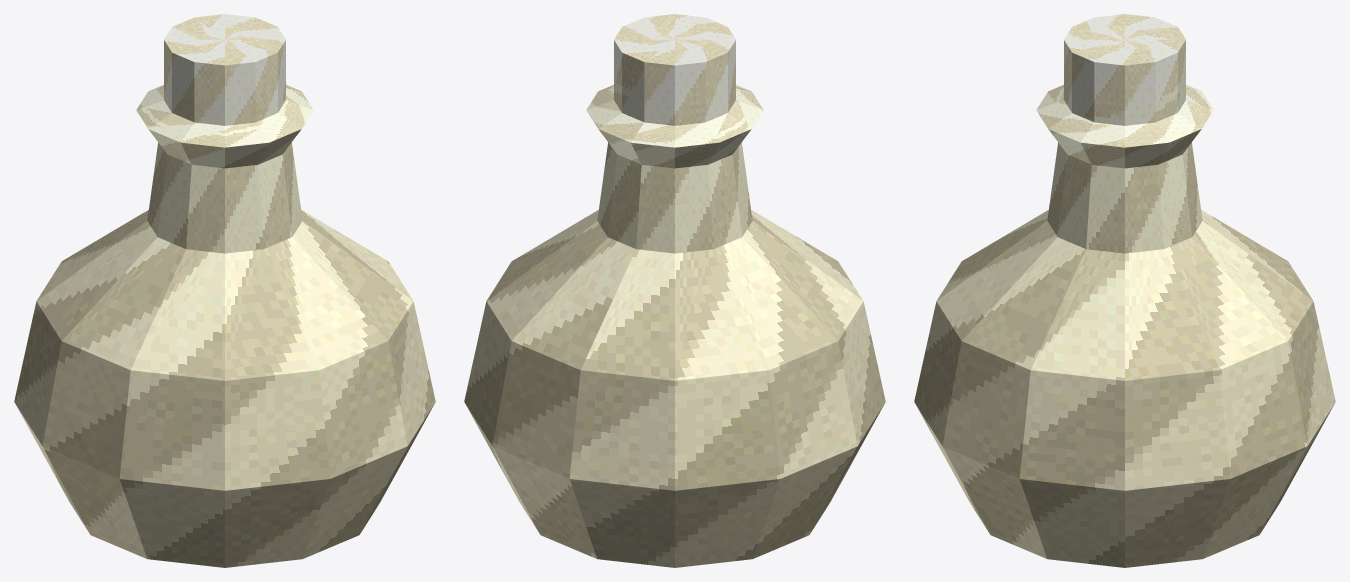
File: extrato_de_alho.glb
The picture shows the model from 3 angles, left to right: view 1: azimuth 30°, elevation 25°; view 2: azimuth 150°, elevation 25°; view 3: azimuth 270°, elevation 25°; orthographic projection.
Parts seen in each view (by area): view 1: extrato_de_alho; view 2: extrato_de_alho; view 3: extrato_de_alho.
Boxes of the visible parts, bbox=[...] form: extrato_de_alho: bbox=[14, 14, 435, 567]; extrato_de_alho: bbox=[464, 14, 885, 567]; extrato_de_alho: bbox=[914, 14, 1335, 567].
Size of the model in its own units: 0.1824 by 0.2304 by 0.1824.
1 material, 1 textured.
